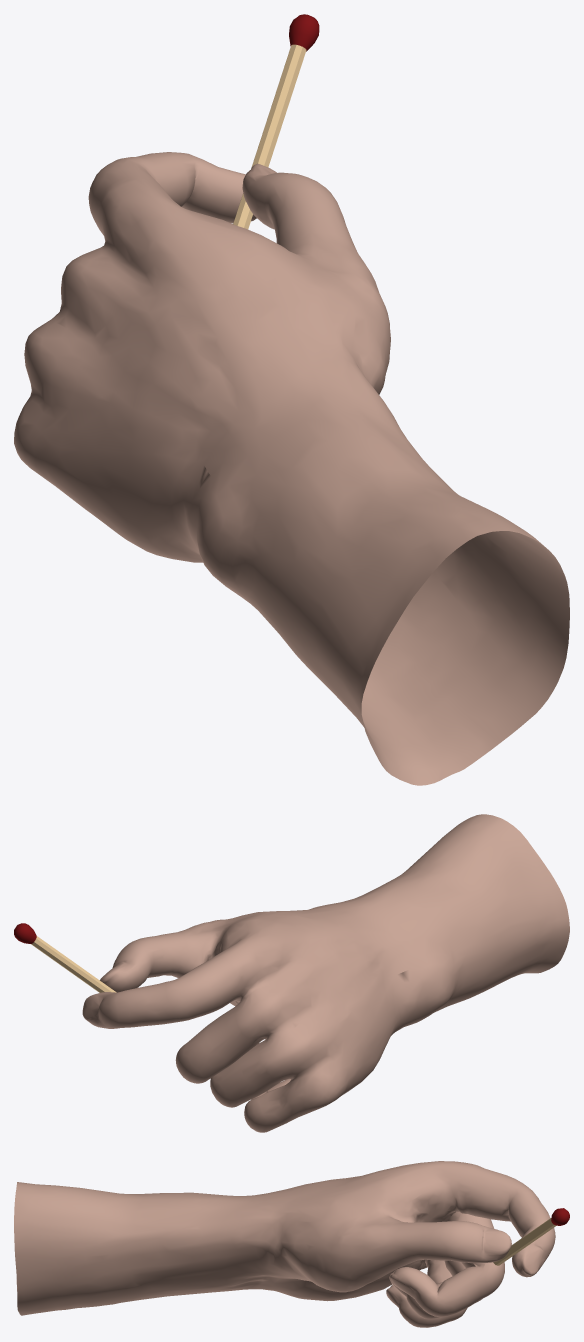
The model's file is hand_left.glb.
3 views of the same model, one above another, from view 1: azimuth 30°, elevation 25°; view 2: azimuth 150°, elevation 25°; view 3: azimuth 270°, elevation 25° (orthographic). The views are drawn at different scales.
Parts seen in each view (by area): view 1: Hand_Left_Baked; view 2: Hand_Left_Baked; view 3: Hand_Left_Baked.
Boxes of the visible parts, left/top/right/bottom form: Hand_Left_Baked: left=14, top=14, right=569, bottom=785; Hand_Left_Baked: left=14, top=814, right=569, bottom=1132; Hand_Left_Baked: left=14, top=1161, right=569, bottom=1327.
Size of the model in its own units: 0.5135 by 0.3919 by 1.01.
